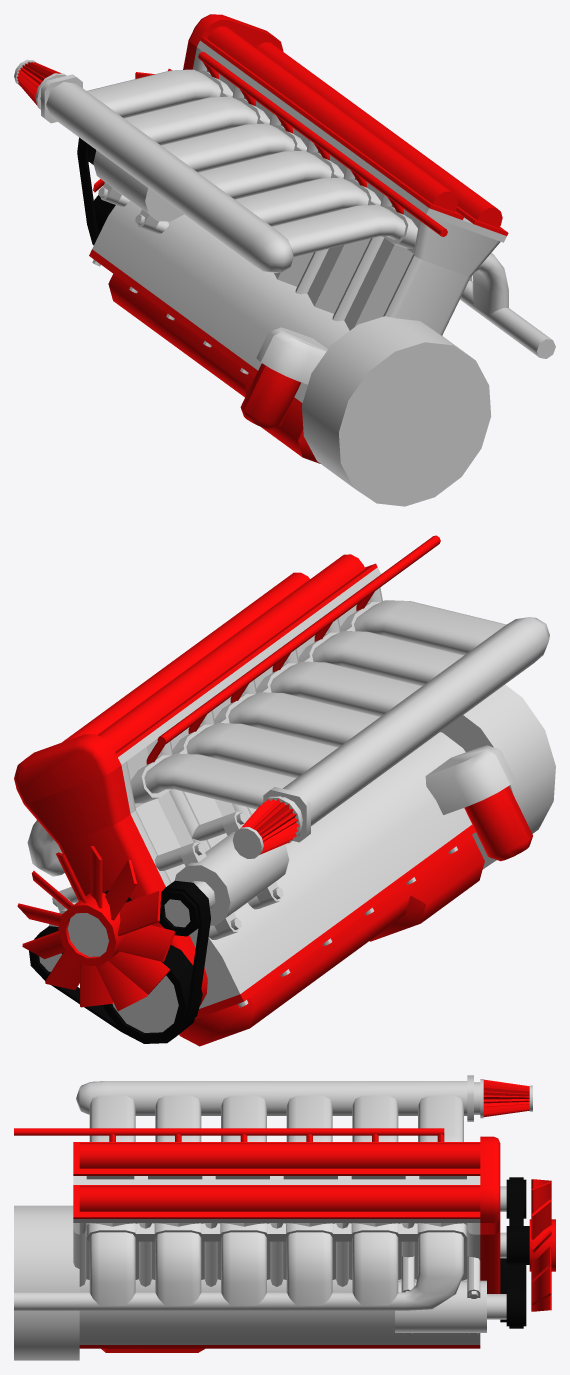
The model's file is inline_6_engine.glb.
The picture shows the model from 3 angles, top to bottom: view 1: azimuth 30°, elevation 25°; view 2: azimuth 150°, elevation 25°; view 3: azimuth 270°, elevation 25°; orthographic projection. The views are drawn at different scales.
Visible parts, largest first — view 1: ENGINE; view 2: ENGINE; view 3: ENGINE.
Boxes of the visible parts, box(x1,y1,x2,y2) form: ENGINE: box(14, 14, 555, 506); ENGINE: box(14, 535, 555, 1046); ENGINE: box(14, 1075, 555, 1360).
Bounding box in the file's own units: 4 × 4.16 × 8.25.
